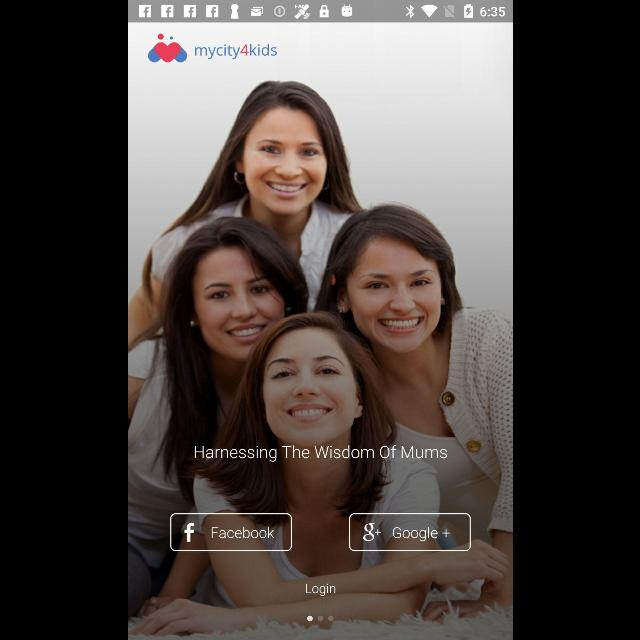backgroundimage: (128, 22, 512, 640)
image: (146, 33, 276, 63)
pageindicator: (306, 616, 334, 622)
text: (194, 446, 446, 462), (304, 583, 336, 597)
textbutton: (169, 513, 291, 551), (348, 513, 470, 551)
uppertaskbar: (128, 1, 512, 23)
